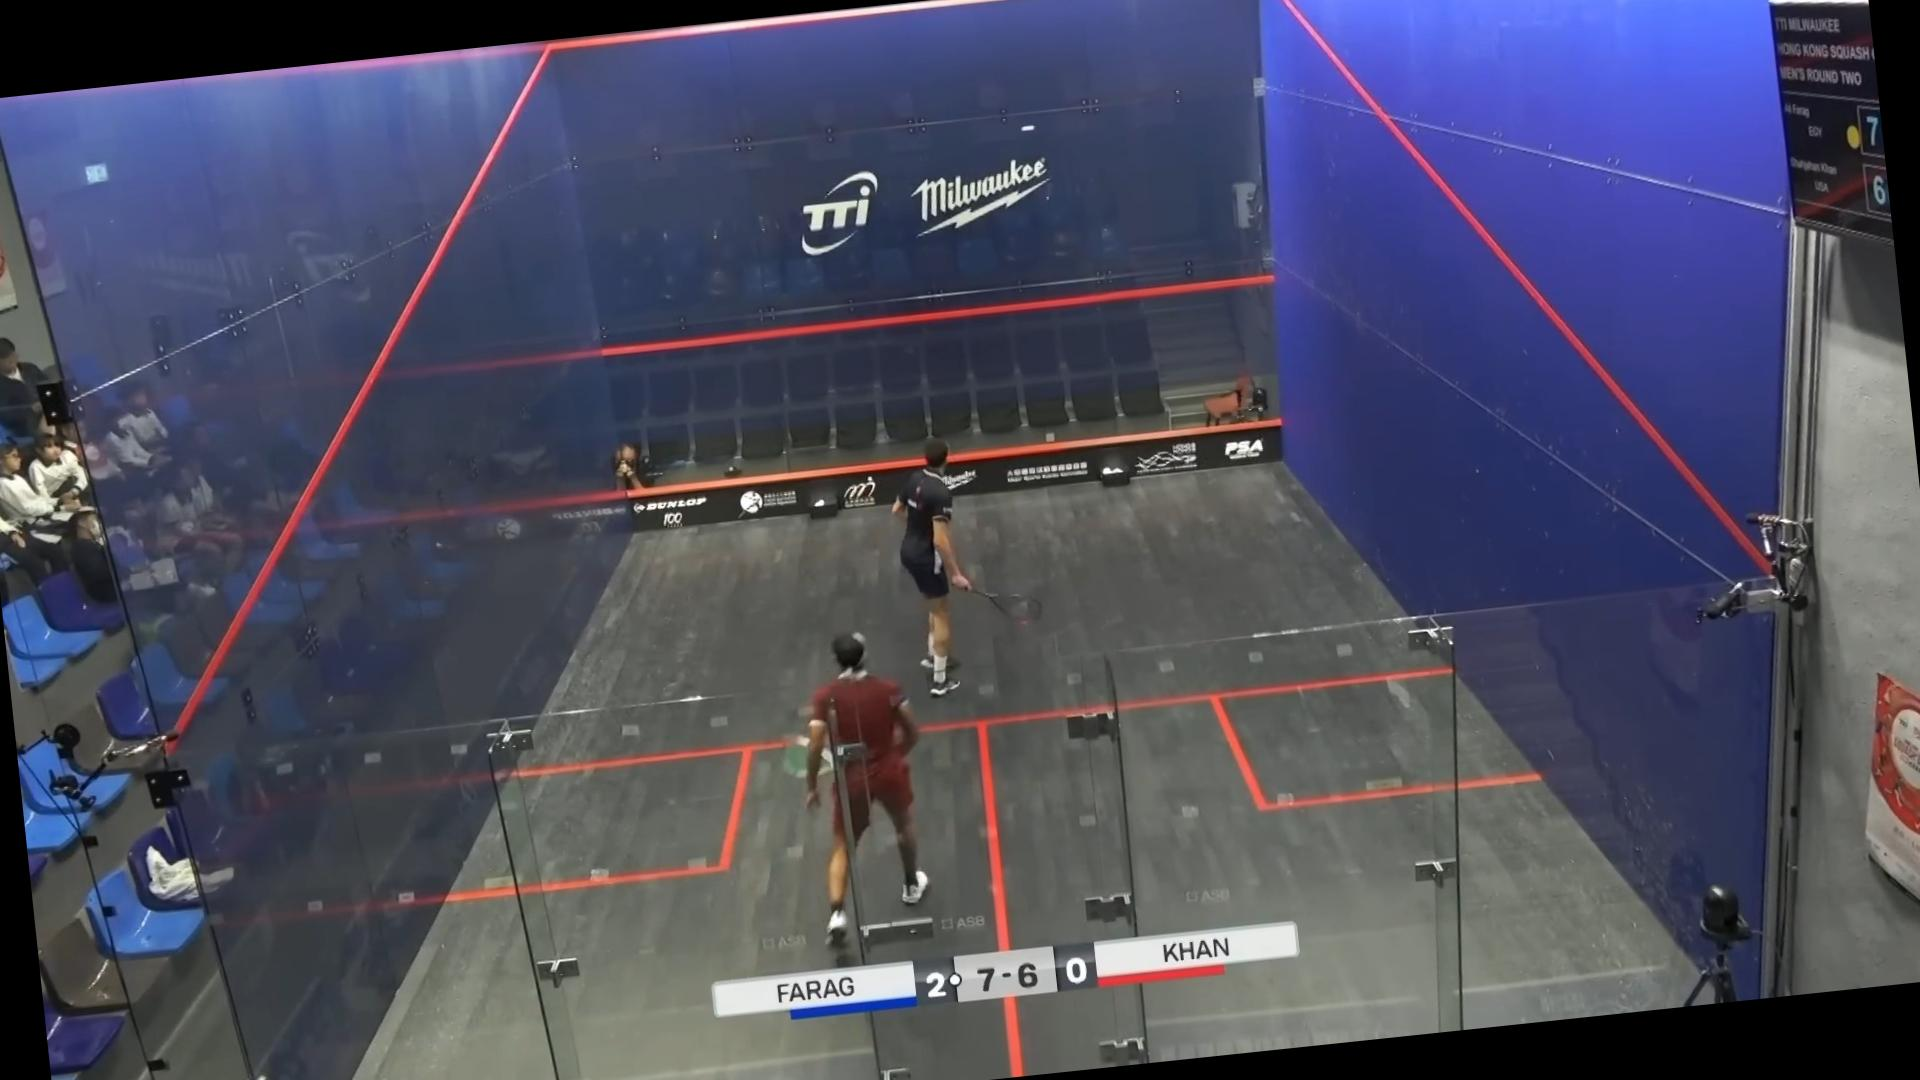Racket: (965, 579, 1048, 637)
